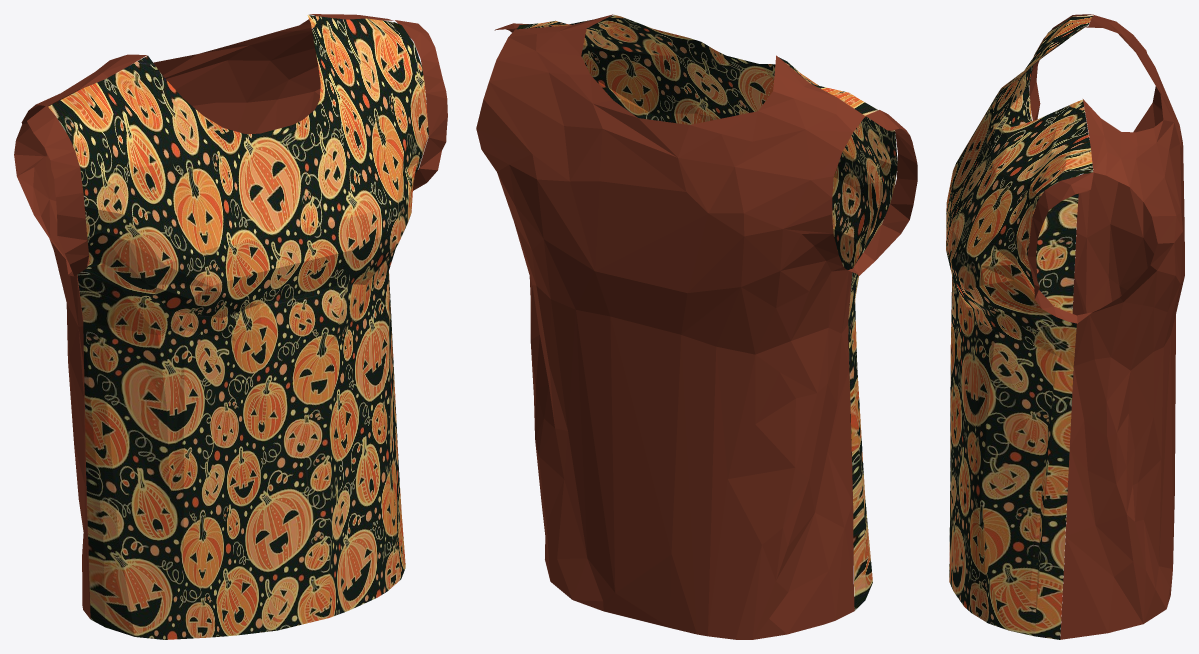
3 views of the same model, side by side, from view 1: azimuth 30°, elevation 25°; view 2: azimuth 150°, elevation 25°; view 3: azimuth 270°, elevation 25° (orthographic). The views are drawn at different scales.
Parts seen in each view (by area): view 1: T_shirt.007; view 2: T_shirt.007; view 3: T_shirt.007.
Boxes of the visible parts, bbox=[...] form: T_shirt.007: bbox=[14, 14, 447, 639]; T_shirt.007: bbox=[476, 14, 917, 639]; T_shirt.007: bbox=[946, 14, 1184, 639].
Size of the model in its own units: 0.2935 by 0.3892 by 0.1639.
Materials: 2 (1 with a texture image).
